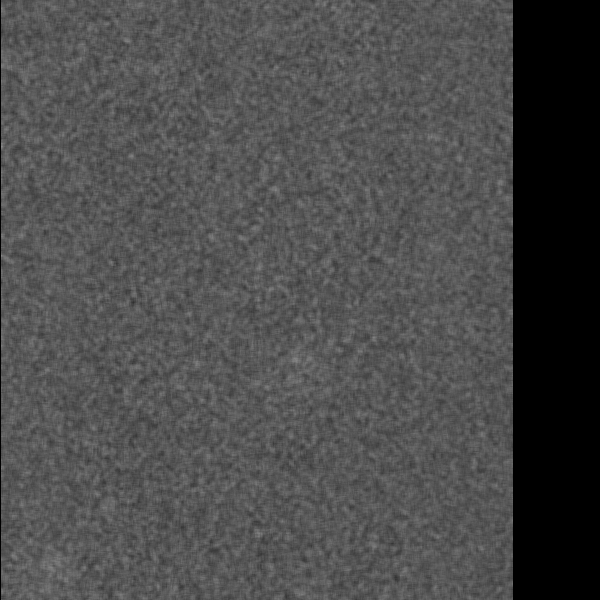spark: (459, 374, 501, 448), (336, 573, 378, 600)
